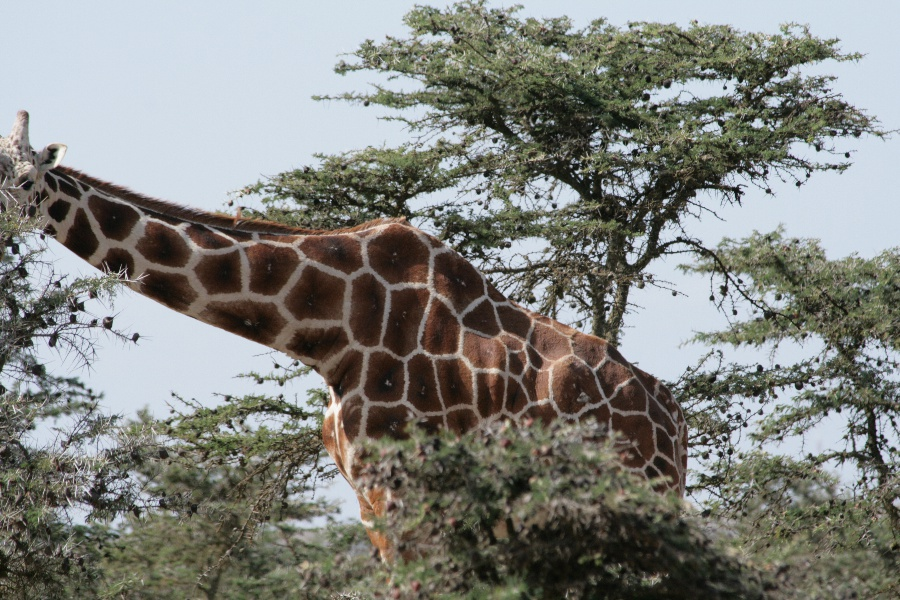giraffe: (0, 99, 685, 596)
